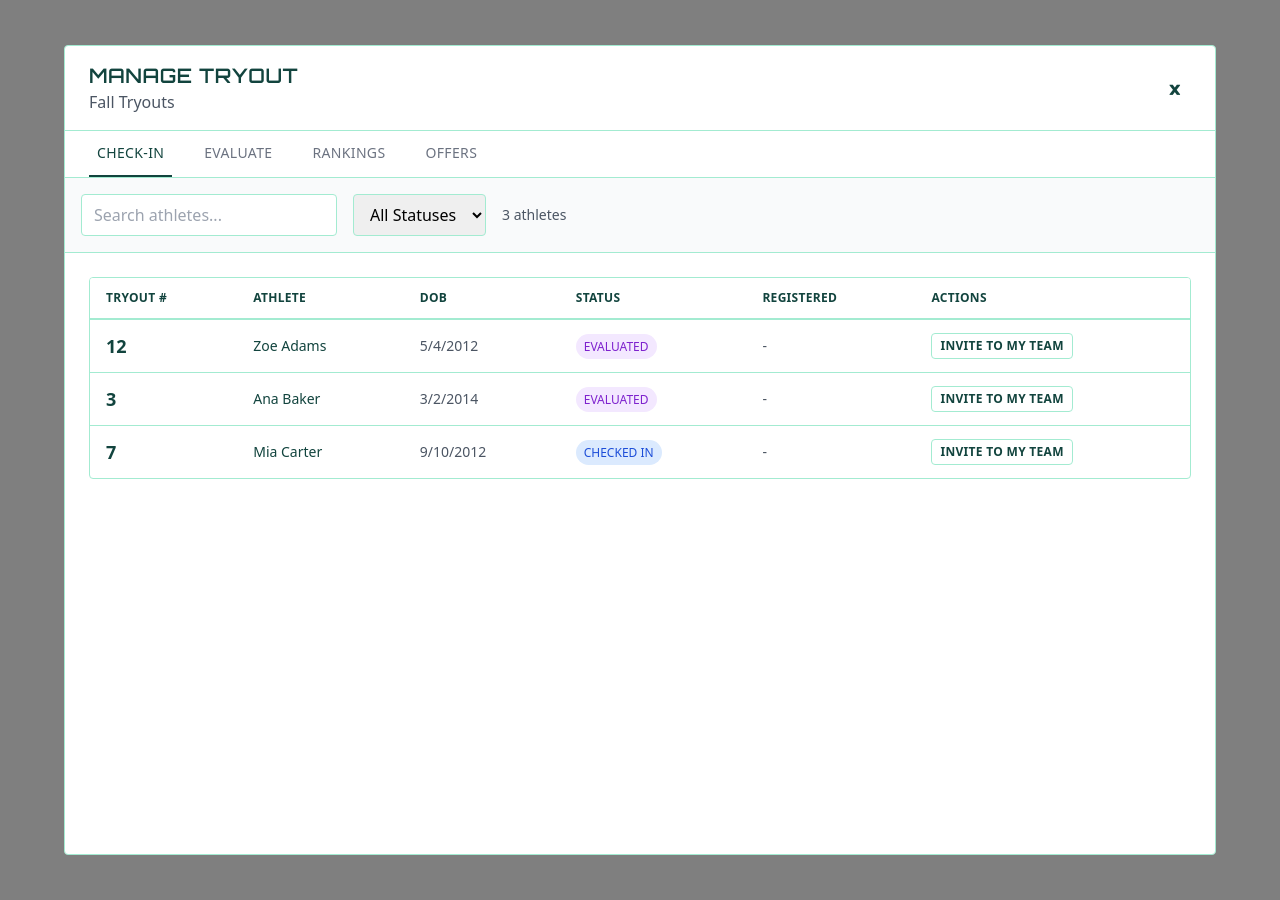
Test: TryoutManagement evaluations toolbar › defaults to name A-Z
Expected: the text "Zoe Adams" is shown, [253, 336, 326, 355]
Click the button "Evaluate": (238, 154) [196, 131, 280, 177]
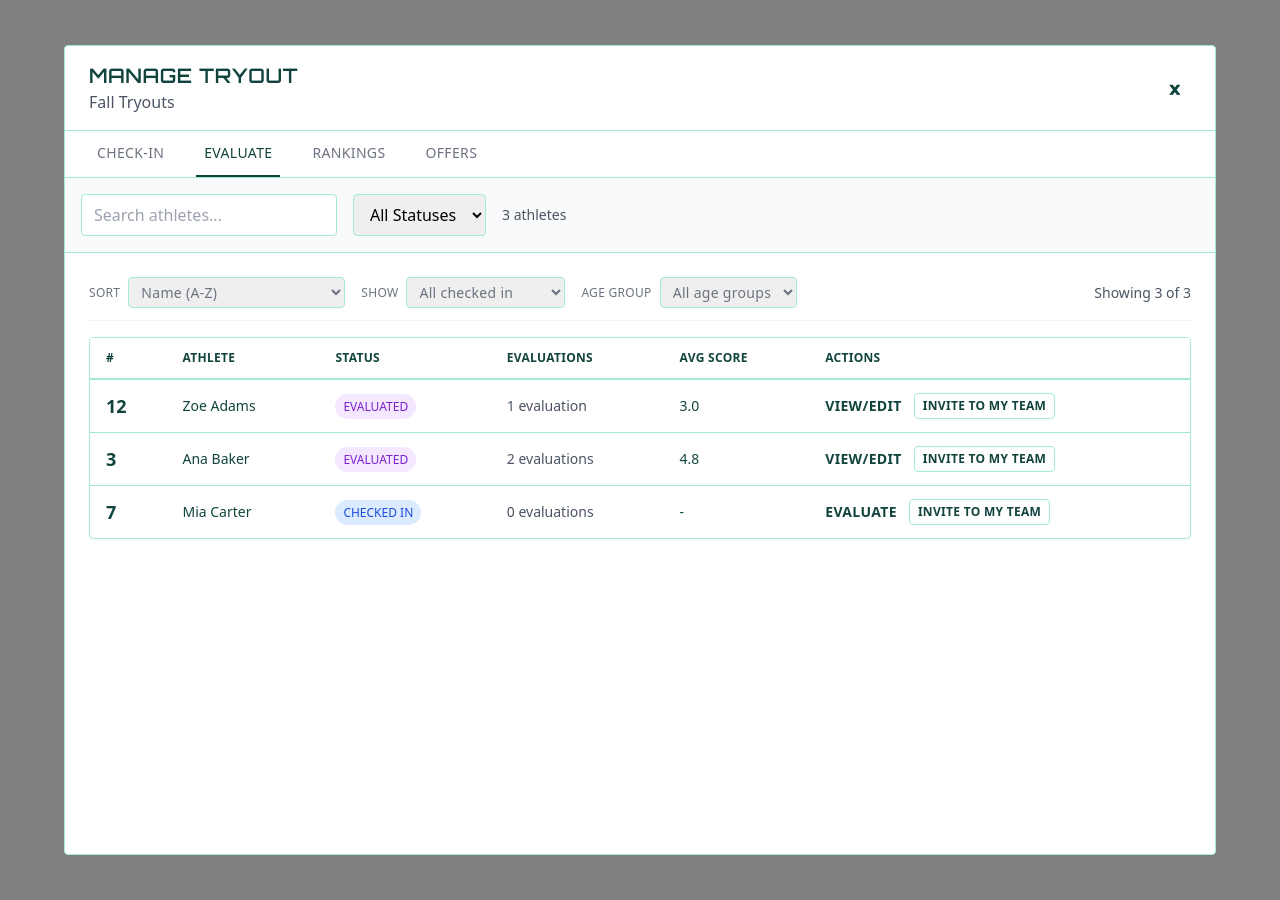
Now the dropdown named "Sort evaluations" is shown, box [128, 277, 345, 308]
